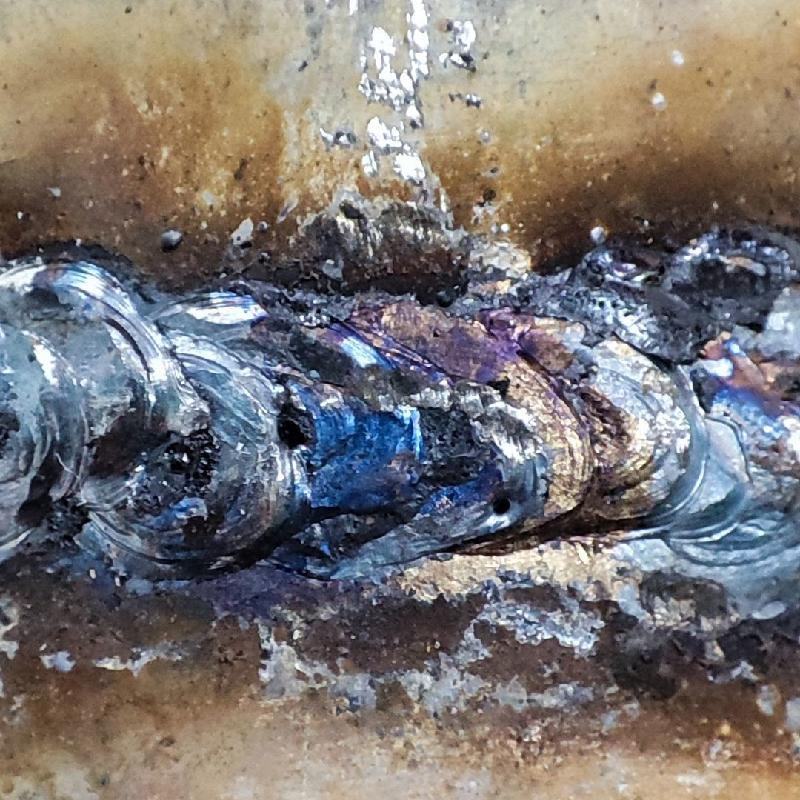Surface_pores: (253, 393, 336, 472), (473, 475, 531, 537)
good: (2, 240, 799, 601)
